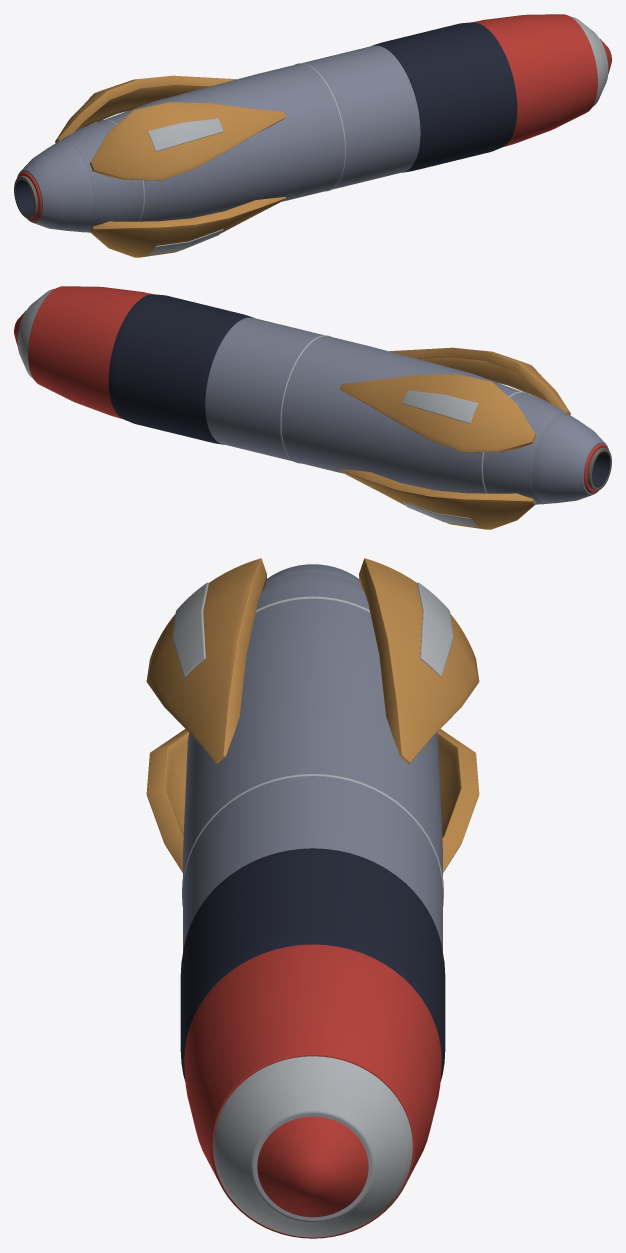
The picture shows the model from 3 angles, top to bottom: view 1: azimuth 30°, elevation 25°; view 2: azimuth 150°, elevation 25°; view 3: azimuth 270°, elevation 25°; orthographic projection. The views are drawn at different scales.
Parts seen in each view (by area): view 1: TI092 / Scatter silver pressure shaft, TI092 / Scatter broad dark nose band, TI092 / Scatter red tapered warhead, TI092 / Scatter thick swept gold vane.002, TI092 / Scatter hollow aft skirt, TI092 / Scatter thick swept gold vane.003, TI092 / Scatter thick swept gold vane.001, TI092 / Scatter vane thermal insert.002, TI092 / Scatter silver nose collar, TI092 / Scatter hollow propulsion bell, TI092 / Scatter vane thermal insert.003; view 2: TI092 / Scatter silver pressure shaft, TI092 / Scatter broad dark nose band, TI092 / Scatter red tapered warhead, TI092 / Scatter thick swept gold vane.001, TI092 / Scatter hollow aft skirt, TI092 / Scatter thick swept gold vane, TI092 / Scatter thick swept gold vane.002, TI092 / Scatter vane thermal insert.001, TI092 / Scatter silver nose collar, TI092 / Scatter hollow propulsion bell, TI092 / Scatter vane thermal insert; view 3: TI092 / Scatter silver pressure shaft, TI092 / Scatter red tapered warhead, TI092 / Scatter broad dark nose band, TI092 / Scatter silver nose collar, TI092 / Scatter thick swept gold vane.001, TI092 / Scatter thick swept gold vane.002, TI092 / Scatter rounded red nose tip, TI092 / Scatter thick swept gold vane, TI092 / Scatter thick swept gold vane.003, TI092 / Scatter vane thermal insert.002, TI092 / Scatter vane thermal insert.001, TI092 / Scatter pressure shaft joint.
Boxes of the visible parts, x1,y1,x2,y2 form: TI092 / Scatter silver pressure shaft: (58,45,420,232); TI092 / Scatter broad dark nose band: (372,22,517,172); TI092 / Scatter red tapered warhead: (473,14,597,146); TI092 / Scatter thick swept gold vane.002: (89,102,285,180); TI092 / Scatter hollow aft skirt: (17,141,94,231); TI092 / Scatter thick swept gold vane.003: (90,197,286,257); TI092 / Scatter thick swept gold vane.001: (55,75,236,142); TI092 / Scatter vane thermal insert.002: (147,118,223,151); TI092 / Scatter silver nose collar: (571,16,608,106); TI092 / Scatter hollow propulsion bell: (14,176,38,218); TI092 / Scatter vane thermal insert.003: (148,229,223,255); TI092 / Scatter silver pressure shaft: (205,317,567,504); TI092 / Scatter broad dark nose band: (108,294,253,444); TI092 / Scatter red tapered warhead: (28,286,152,418); TI092 / Scatter thick swept gold vane.001: (340,374,536,452); TI092 / Scatter hollow aft skirt: (531,413,608,503); TI092 / Scatter thick swept gold vane: (339,469,535,529); TI092 / Scatter thick swept gold vane.002: (389,347,570,414); TI092 / Scatter vane thermal insert.001: (402,390,478,423); TI092 / Scatter silver nose collar: (17,288,54,378); TI092 / Scatter hollow propulsion bell: (587,448,611,490); TI092 / Scatter vane thermal insert: (402,501,477,527); TI092 / Scatter silver pressure shaft: (183,572,442,951); TI092 / Scatter red tapered warhead: (184,944,441,1238); TI092 / Scatter broad dark nose band: (180,848,445,1081); TI092 / Scatter silver nose collar: (213,1056,412,1237); TI092 / Scatter thick swept gold vane.001: (359,558,479,763); TI092 / Scatter thick swept gold vane.002: (146,558,266,763); TI092 / Scatter rounded red nose tip: (257,1116,368,1217); TI092 / Scatter thick swept gold vane: (437,729,479,872); TI092 / Scatter thick swept gold vane.003: (146,729,188,872); TI092 / Scatter vane thermal insert.002: (172,582,208,676); TI092 / Scatter vane thermal insert.001: (417,582,453,676); TI092 / Scatter pressure shaft joint: (182,774,443,906).
Size of the model in its own units: 6.23 by 1.54 by 1.54.
